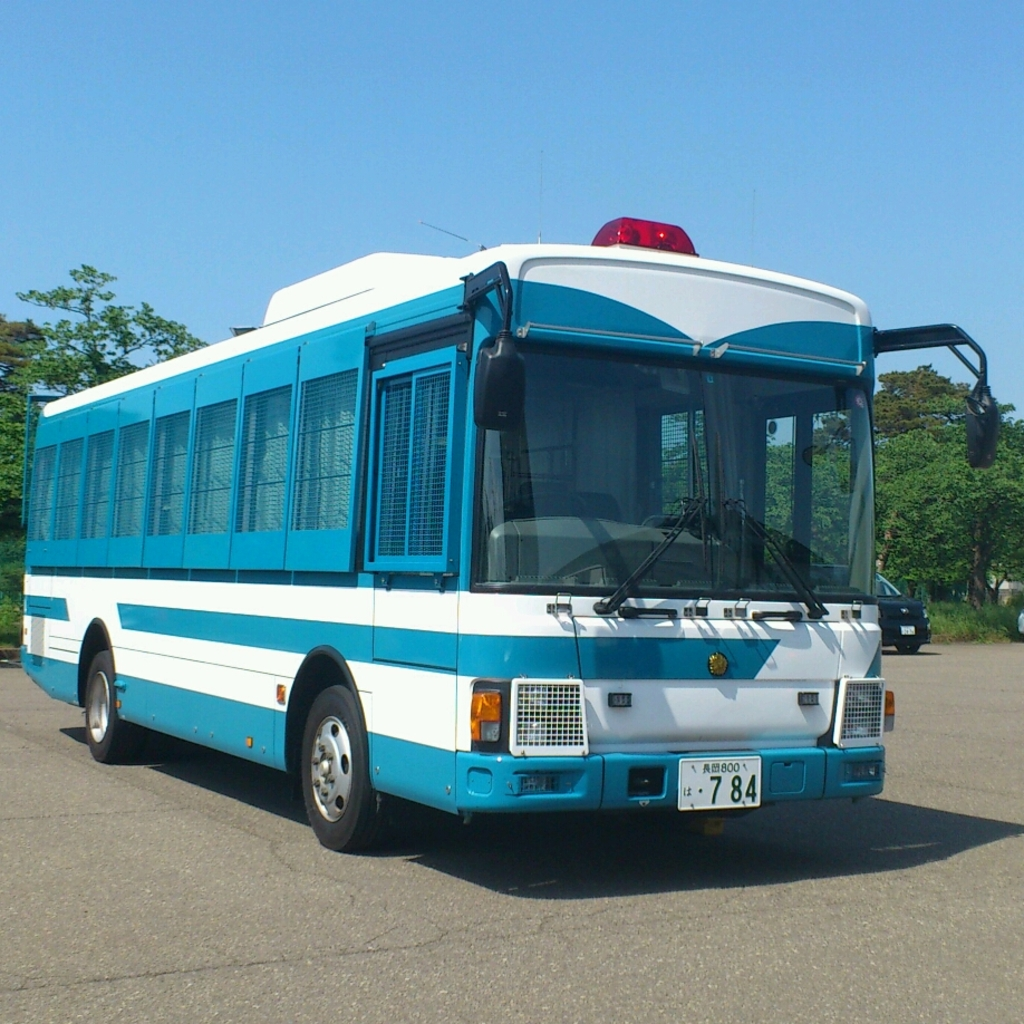cars: (802, 558, 932, 647)
